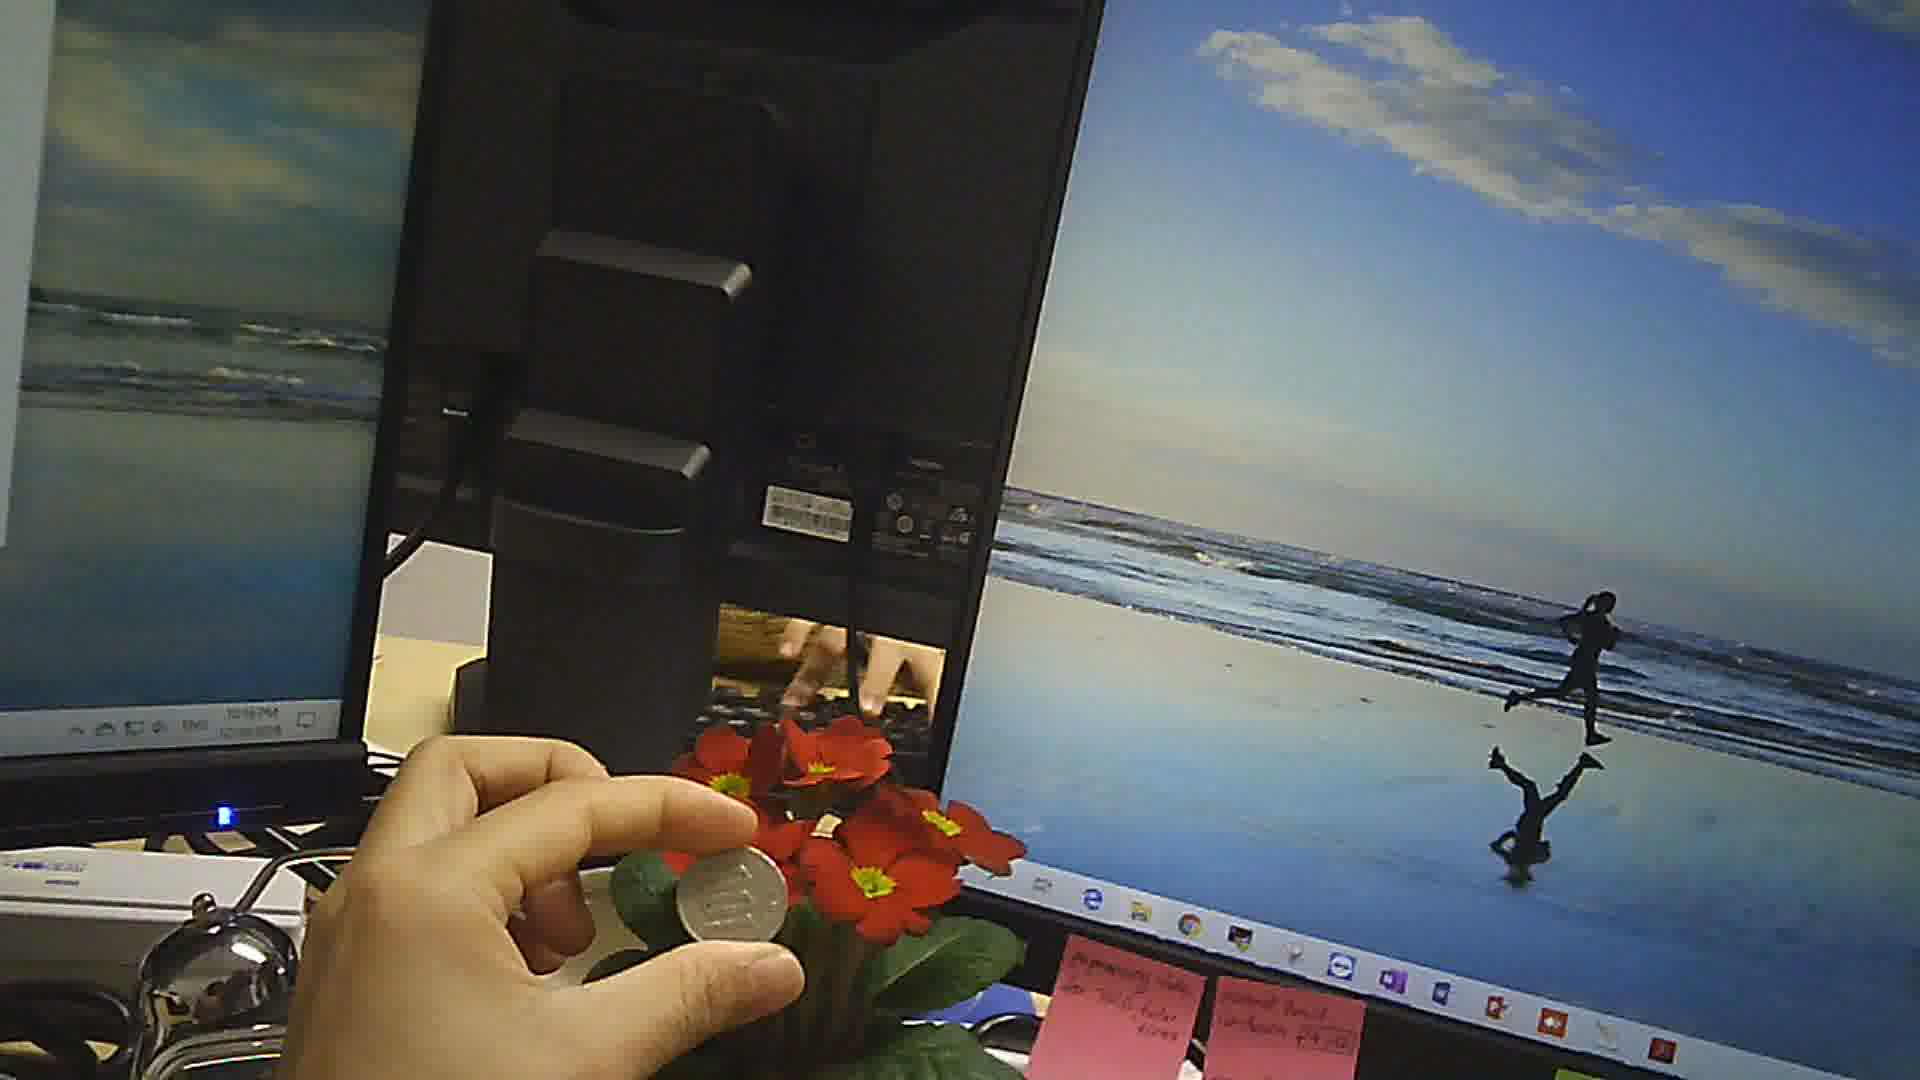100 Yen: (674, 843, 816, 953)
